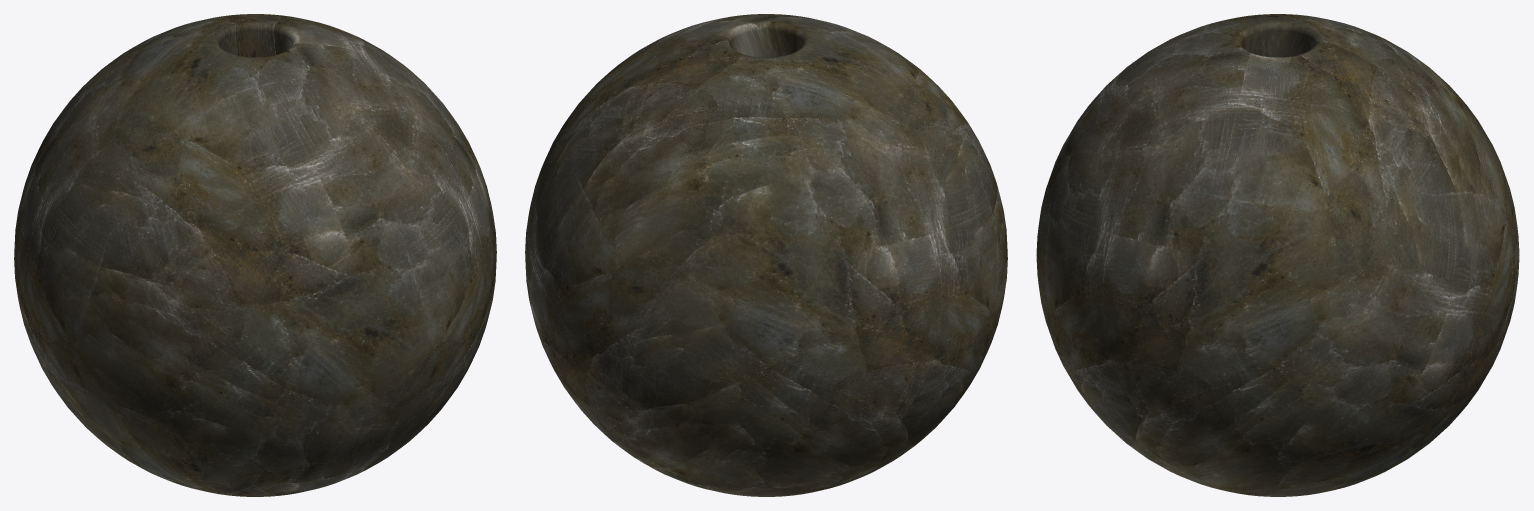
The picture shows the model from 3 angles, left to right: view 1: azimuth 30°, elevation 25°; view 2: azimuth 150°, elevation 25°; view 3: azimuth 270°, elevation 25°; orthographic projection.
Parts seen in each view (by area): view 1: Photo_Labradorite_8mm; view 2: Photo_Labradorite_8mm; view 3: Photo_Labradorite_8mm.
Part boxes in pixels (x1,y1,x2,y2): Photo_Labradorite_8mm: (14, 14, 496, 496); Photo_Labradorite_8mm: (525, 14, 1007, 496); Photo_Labradorite_8mm: (1036, 14, 1519, 496).
Bounding box in the file's own units: 0.008 × 0.00787 × 0.008.
1 material, 1 textured.
